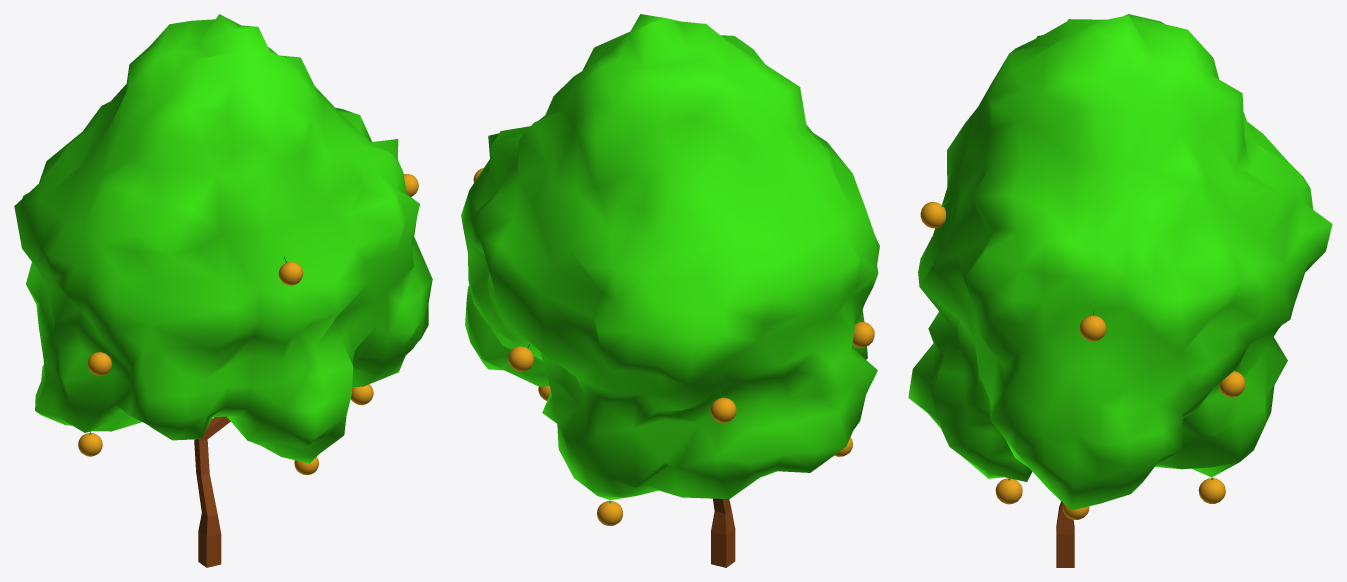
The model's file is SM_OrangeTree_002_LOD1.fbx.
3 renders of one model, left to right at view 1: azimuth 30°, elevation 25°; view 2: azimuth 150°, elevation 25°; view 3: azimuth 270°, elevation 25°, orthographic. The views are drawn at different scales.
Parts seen in each view (by area): view 1: OrangeTree_02; view 2: OrangeTree_02; view 3: OrangeTree_02.
Part boxes in pixels (box(x1,y1,x2,y2)): OrangeTree_02: box(14, 14, 432, 567); OrangeTree_02: box(461, 14, 879, 567); OrangeTree_02: box(908, 14, 1332, 567).
Bounding box in the file's own units: 291 × 391 × 264.
